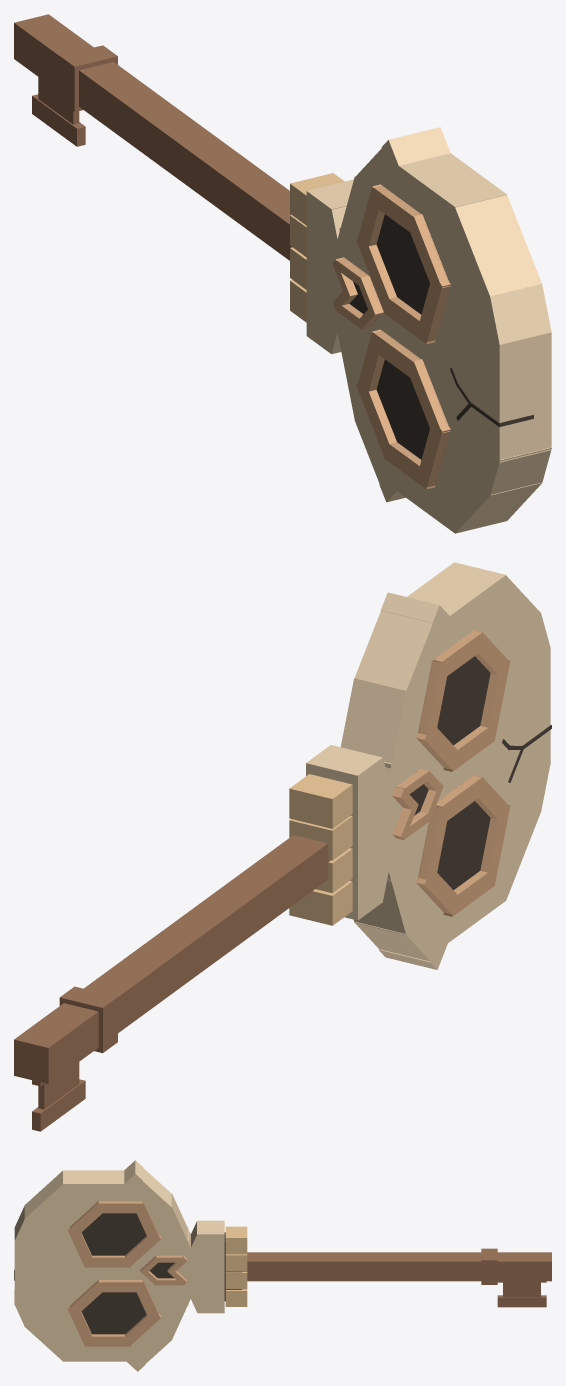
File: skeleton_key.glb
3 renders of one model, top to bottom at view 1: azimuth 30°, elevation 25°; view 2: azimuth 150°, elevation 25°; view 3: azimuth 270°, elevation 25°, orthographic. The views are drawn at different scales.
Visible parts, largest first — view 1: cube_0, cube_19, cube_21, cube_25, cube_12, cube_13, cube_8, cube_22, cube_24, cube_14, cube_23, cube_15 (+24 smaller); view 2: cube_0, cube_15, cube_19, cube_14, cube_12, cube_16, cube_8, cube_13, cube_21, cube_5, cube_22, cube_38 (+26 smaller); view 3: cube_0, cube_15, cube_19, cube_25, cube_8, cube_14, cube_22, cube_21, cube_24, cube_12, cube_16, cube_80 (+31 smaller).
Part boxes in pixels (box(x1,y1,x2,y2)): cube_0: box(14, 14, 292, 260); cube_19: box(395, 153, 507, 515); cube_21: box(338, 195, 541, 382); cube_25: box(339, 227, 551, 462); cube_12: box(306, 237, 496, 429); cube_13: box(337, 301, 498, 421); cube_8: box(306, 179, 353, 354); cube_22: box(343, 225, 542, 533); cube_24: box(341, 284, 551, 345); cube_14: box(333, 176, 497, 471); cube_23: box(346, 234, 551, 494); cube_15: box(354, 143, 499, 465); cube_0: box(14, 835, 330, 1083); cube_15: box(354, 611, 550, 814); cube_19: box(407, 562, 506, 925); cube_14: box(340, 678, 531, 810); cube_12: box(352, 682, 547, 874); cube_16: box(354, 647, 550, 968); cube_8: box(306, 745, 382, 920); cube_13: box(353, 640, 548, 934); cube_21: box(389, 576, 540, 908); cube_5: box(289, 774, 352, 828); cube_22: box(393, 728, 541, 899); cube_38: box(437, 802, 473, 884); cube_0: box(242, 1252, 551, 1281); cube_15: box(15, 1168, 171, 1319); cube_19: box(63, 1170, 128, 1351); cube_25: box(14, 1227, 188, 1305); cube_8: box(197, 1220, 224, 1313); cube_14: box(17, 1194, 192, 1312); cube_22: box(24, 1228, 185, 1360); cube_21: box(24, 1171, 146, 1262); cube_24: box(14, 1206, 184, 1303); cube_12: box(17, 1259, 224, 1288); cube_16: box(16, 1228, 171, 1364); cube_80: box(99, 1213, 142, 1250).
Bounding box in the file's own units: 0.05 × 0.251 × 0.6181.
1 material, 1 textured.
